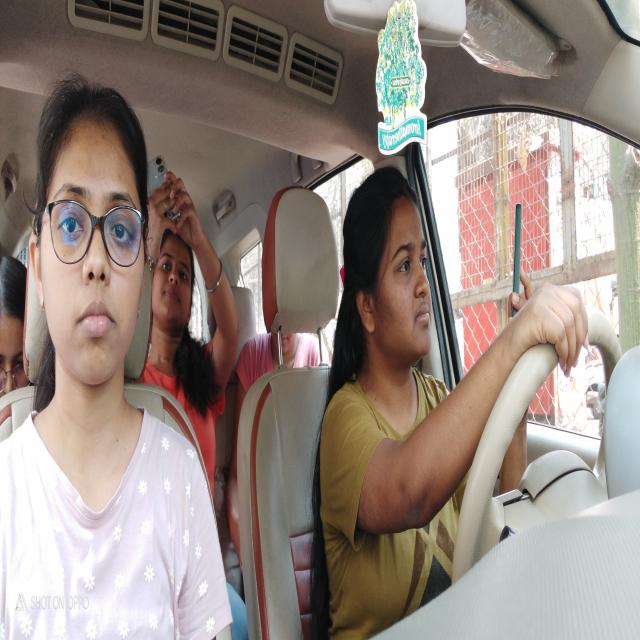mobile: (510, 188, 530, 326)
person: (30, 75, 154, 394), (336, 160, 448, 366), (149, 230, 202, 345), (0, 248, 34, 405), (272, 327, 308, 357)
